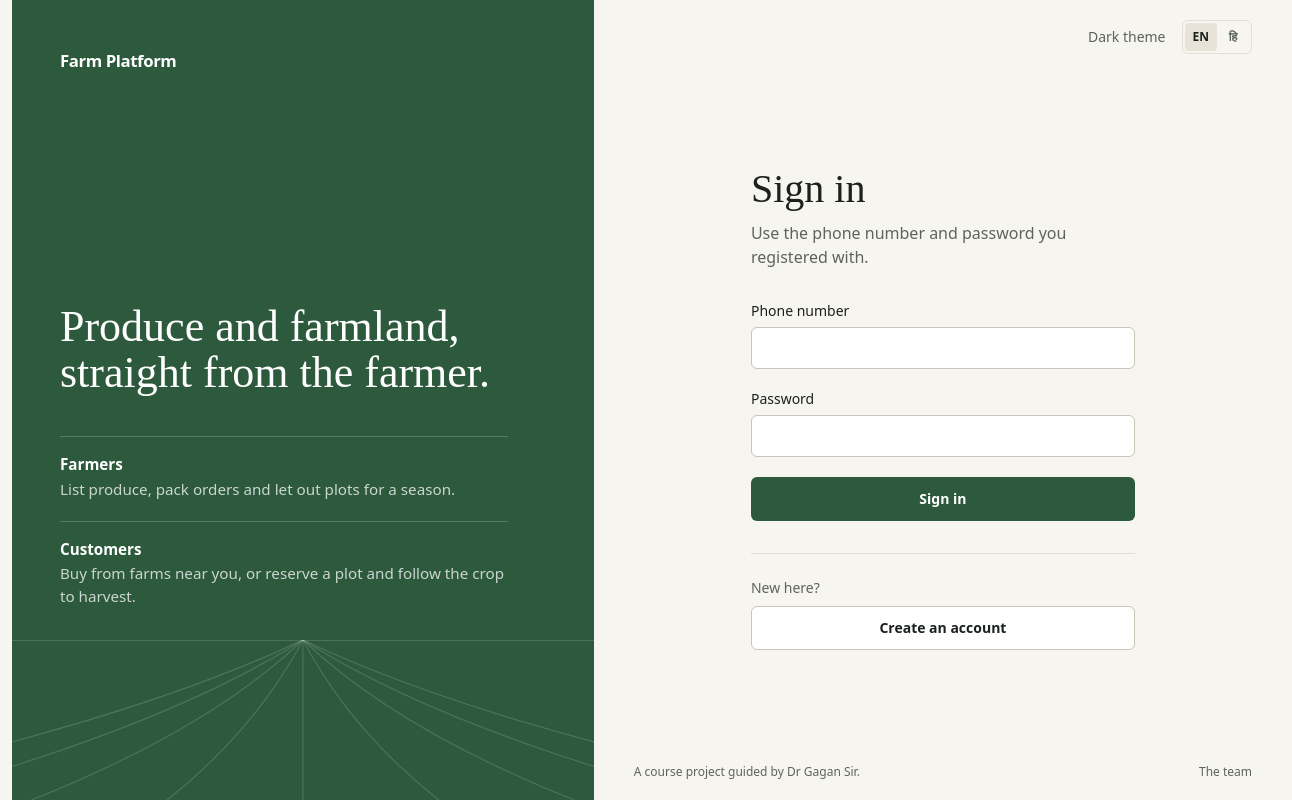
Test case: login › shows the server message when the password is wrong
In the field labelled "Phone number": x=943, y=348 [751,326,1135,368], type "9876543210"
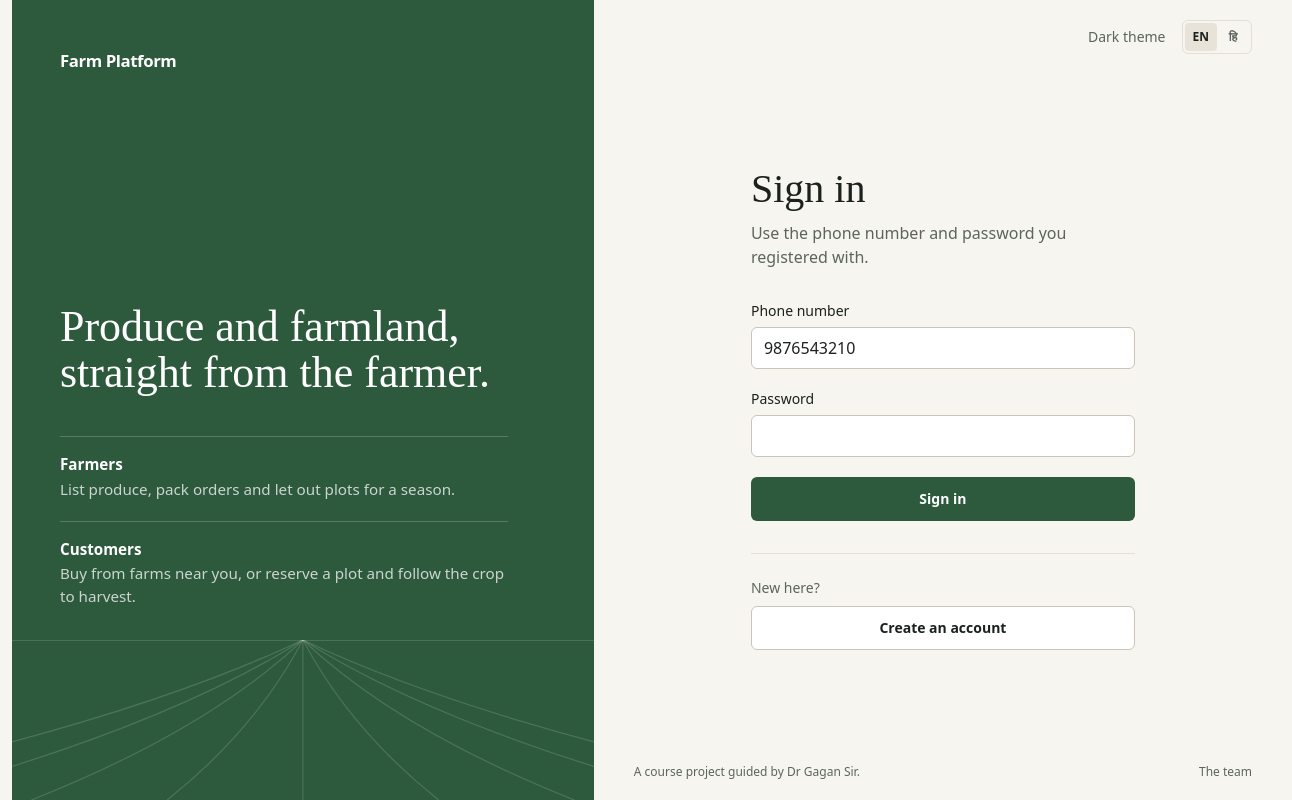
In the password field labelled "Password": x=943, y=436 [751,414,1135,456], type "nope"
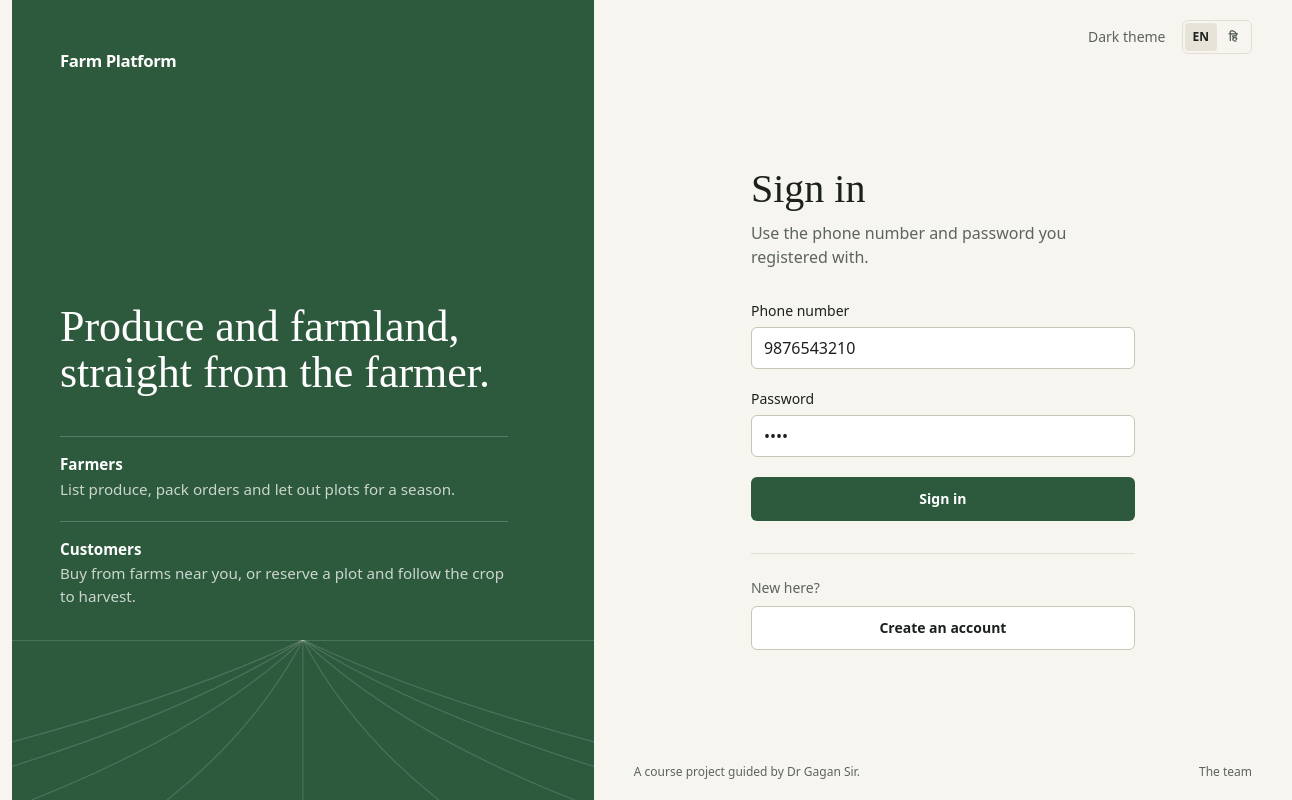
Click the button "Sign in": x=943, y=498 [751,476,1135,520]
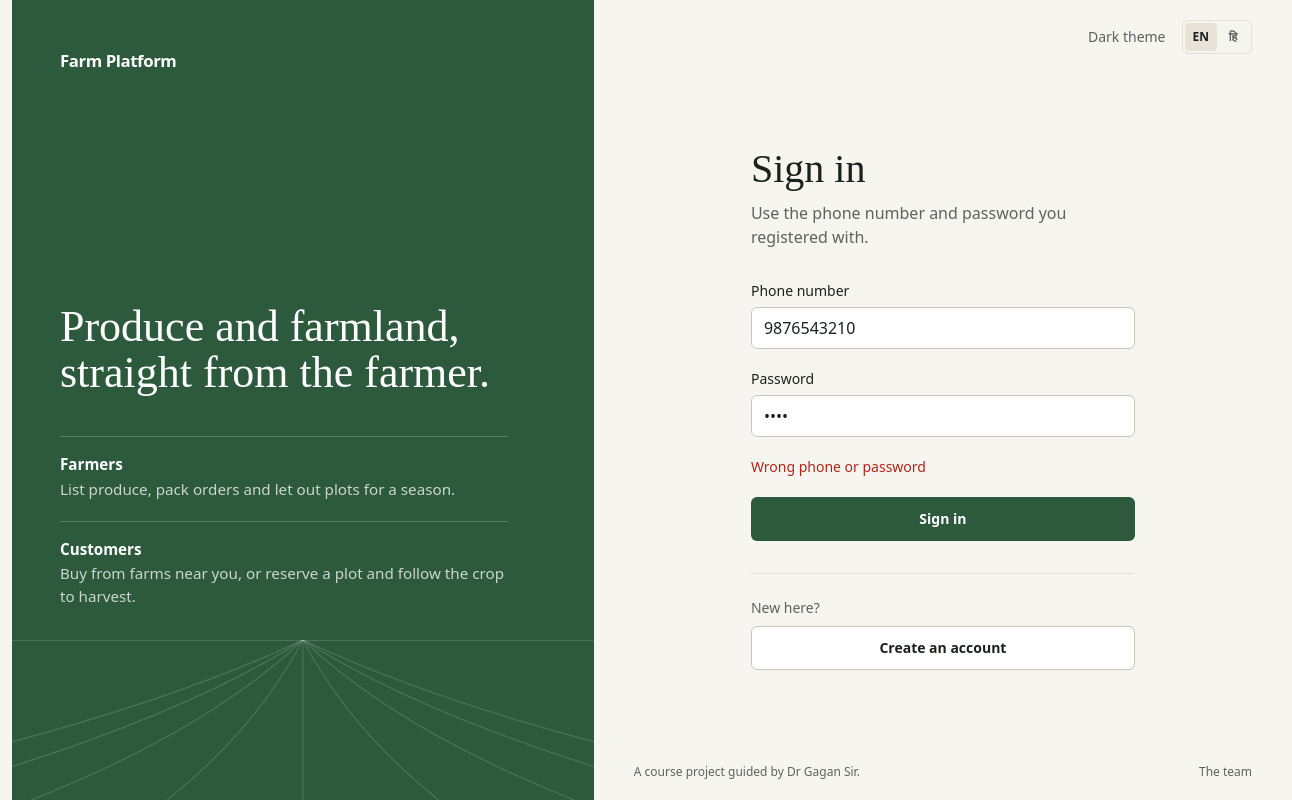
Now the text "Wrong phone or password" is shown, box [751,456,926,476]
